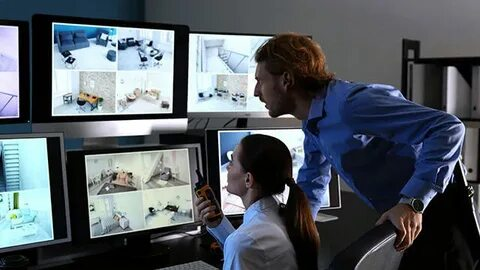awake: (253, 31, 480, 269), (192, 133, 322, 270)
